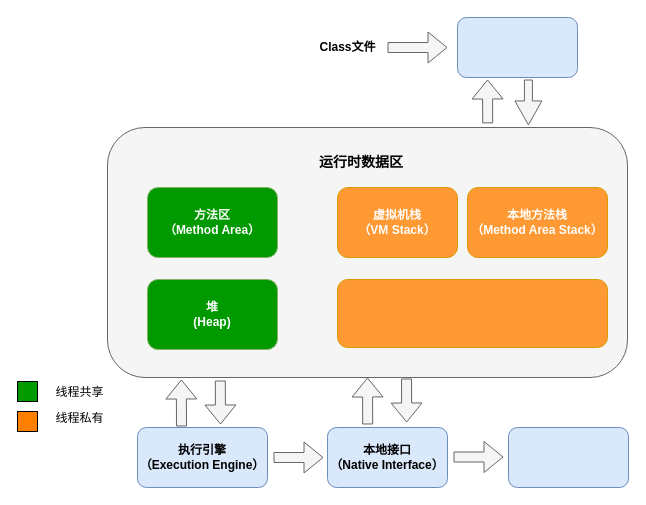
This 646x505 diagram has some shape labels left out. The centre of each missing label's shape, as x and y in pixels:
本地库 （Native Libraries）: the point at 568,457
程序计数器 （Program Counter Register）: the point at 472,313
类加载器 （Classloader）: the point at 517,47
